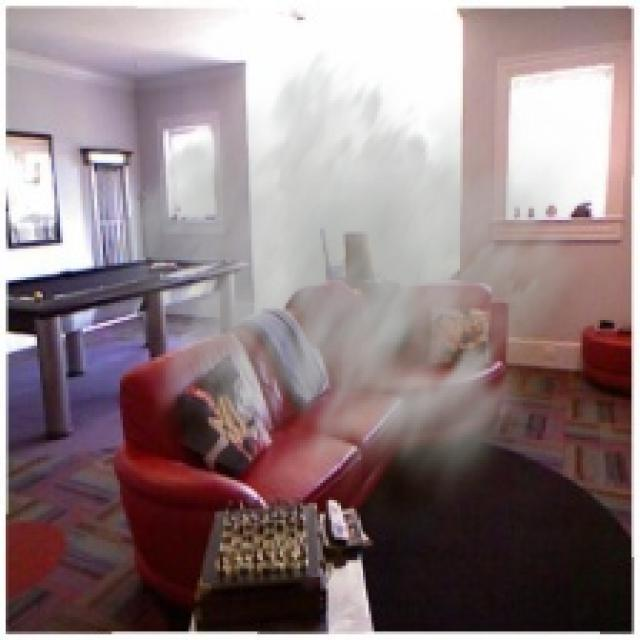Smoke: (86, 49, 603, 568)
